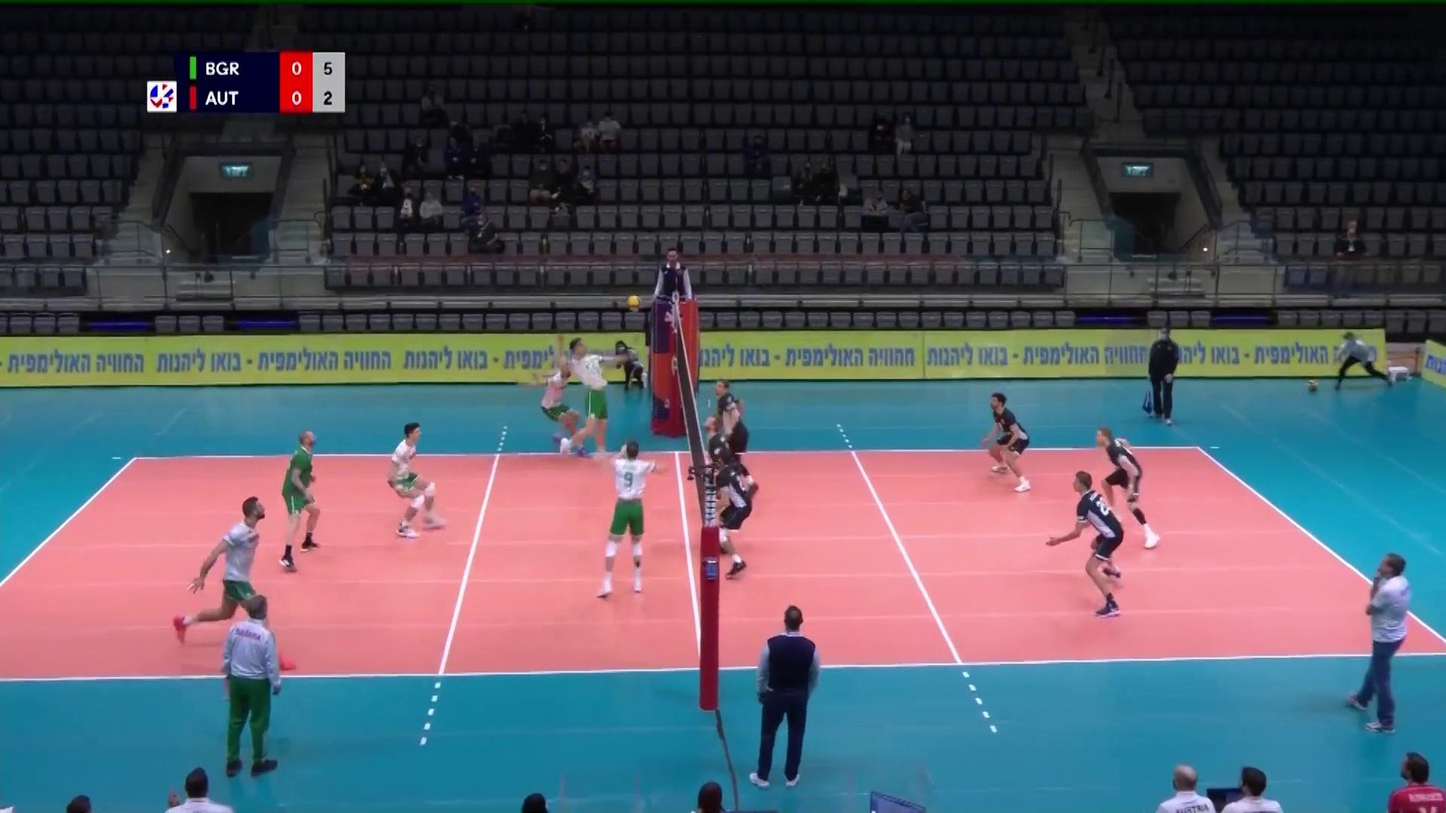ball: (627, 295, 639, 308)
